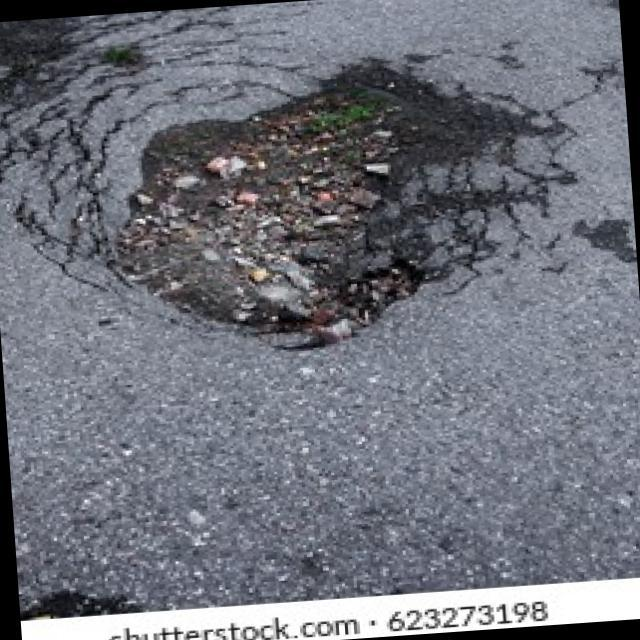Pothole: (58, 61, 479, 357)
